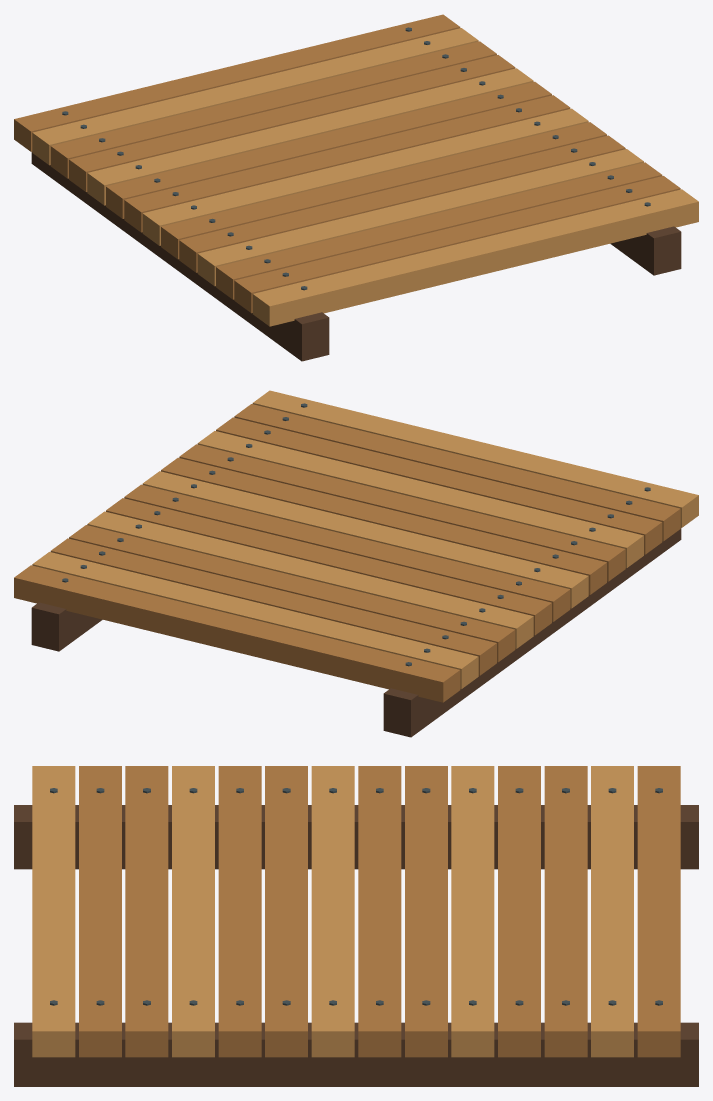
The model's file is dock_kit__dock_platform.glb.
3 renders of one model, top to bottom at view 1: azimuth 30°, elevation 25°; view 2: azimuth 150°, elevation 25°; view 3: azimuth 270°, elevation 25°, orthographic. The views are drawn at different scales.
Visible parts, largest first — view 1: dock_platform__wood2.001, dock_platform__wood3.001, dock_platform__wood_dark.001, dock_platform__metal.001; view 2: dock_platform__wood2.001, dock_platform__wood3.001, dock_platform__wood_dark.001, dock_platform__metal.001; view 3: dock_platform__wood2.001, dock_platform__wood3.001, dock_platform__wood_dark.001, dock_platform__metal.001.
Boxes of the visible parts, x1=… form: dock_platform__wood2.001: x1=14, y1=14, x2=680, y2=313; dock_platform__wood3.001: x1=32, y1=28, x2=698, y2=326; dock_platform__wood_dark.001: x1=31, y1=152, x2=681, y2=361; dock_platform__metal.001: x1=62, y1=27, x2=650, y2=290; dock_platform__wood2.001: x1=14, y1=404, x2=680, y2=702; dock_platform__wood3.001: x1=32, y1=390, x2=698, y2=689; dock_platform__wood_dark.001: x1=31, y1=528, x2=681, y2=737; dock_platform__metal.001: x1=62, y1=403, x2=650, y2=666; dock_platform__wood2.001: x1=79, y1=766, x2=680, y2=1057; dock_platform__wood3.001: x1=32, y1=766, x2=633, y2=1057; dock_platform__wood_dark.001: x1=14, y1=805, x2=698, y2=1086; dock_platform__metal.001: x1=50, y1=788, x2=662, y2=1005.
Bounding box in the file's own units: 2.65 × 0.343 × 2.89.
